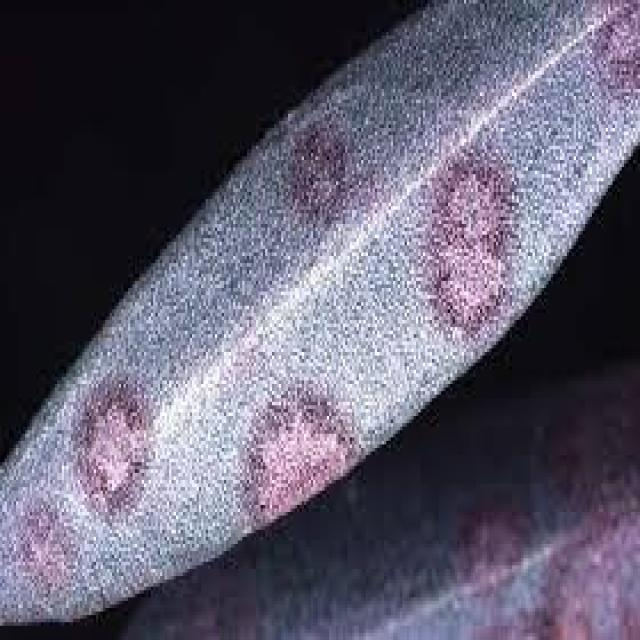Peacock Eye: (0, 0, 638, 619)
